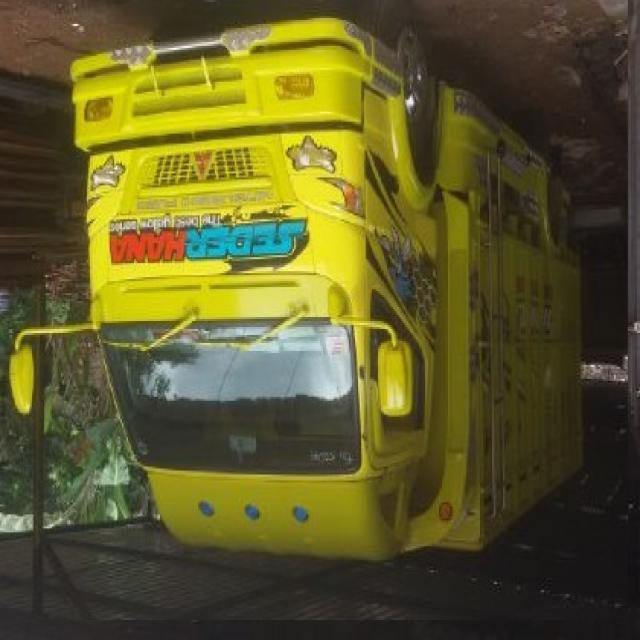truck: (15, 16, 578, 556)
